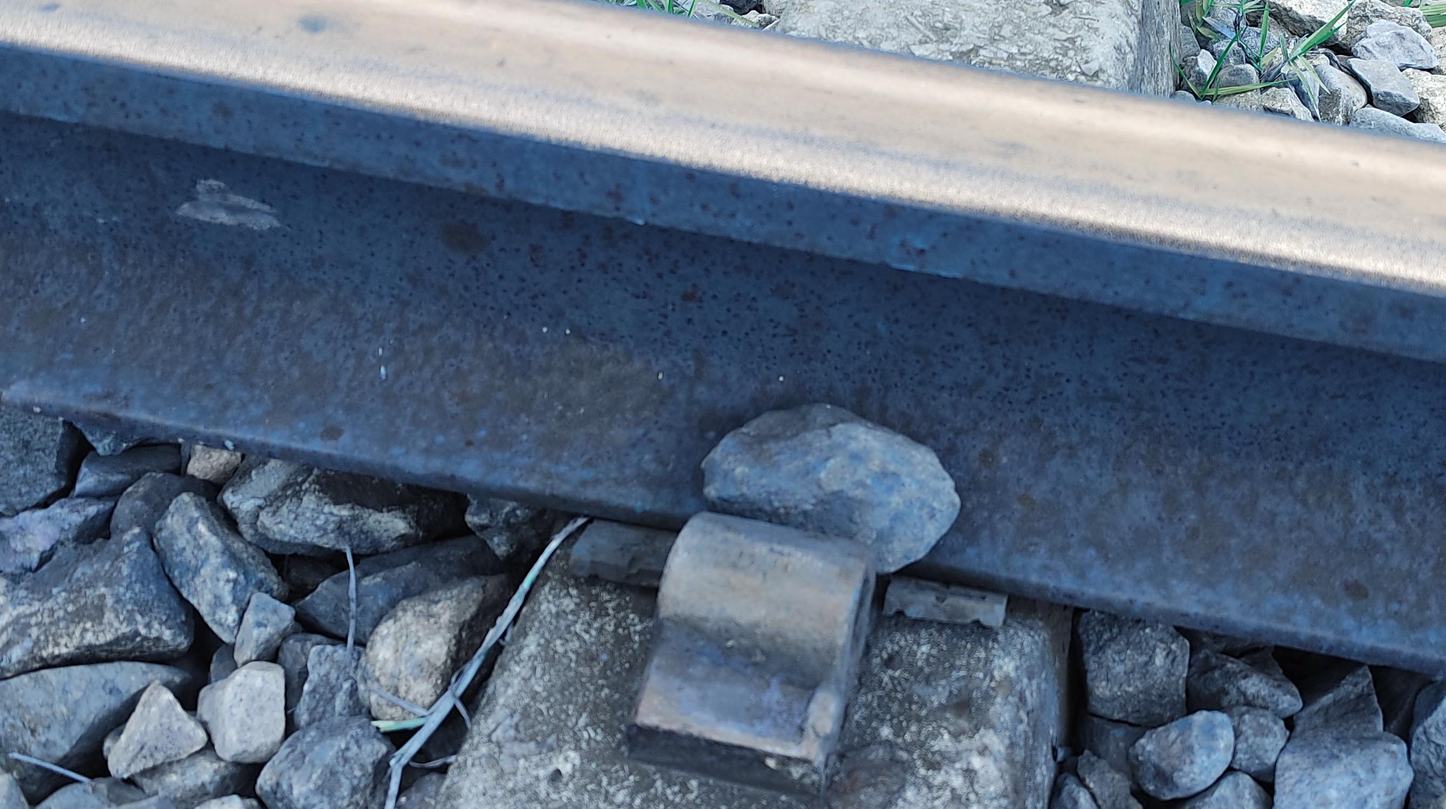loss: (603, 510, 913, 807)
